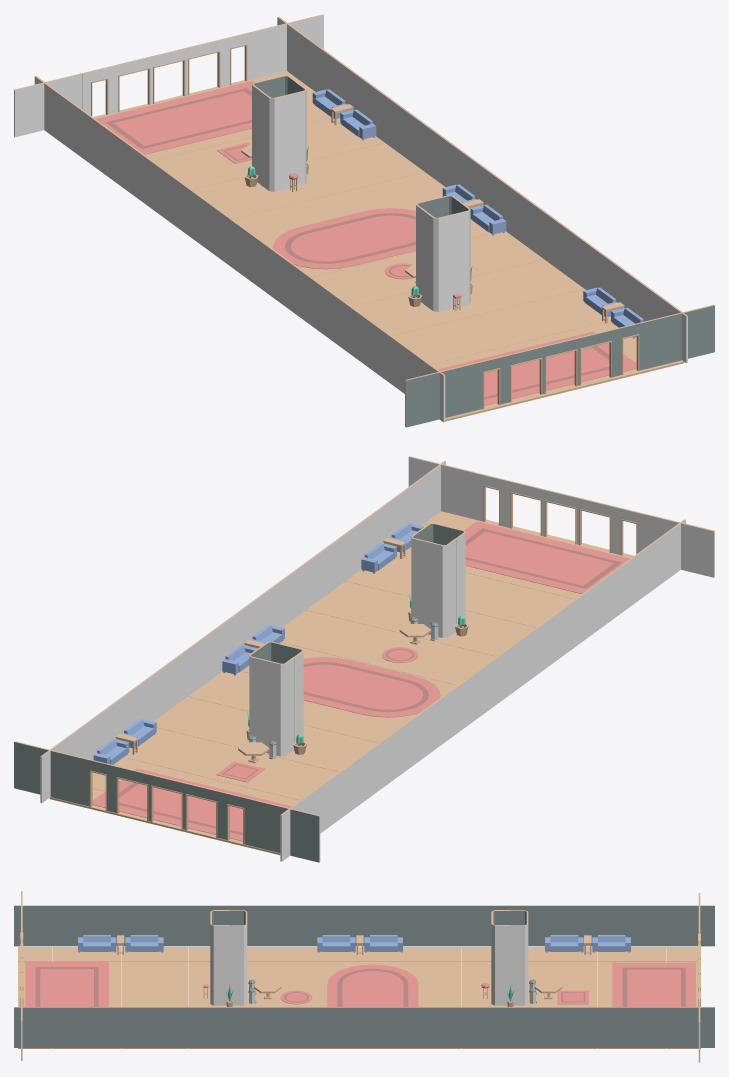
Rendered from place1.gltf.
3 renders of one model, top to bottom at view 1: azimuth 30°, elevation 25°; view 2: azimuth 150°, elevation 25°; view 3: azimuth 270°, elevation 25°, orthographic. The views are drawn at different scales.
Parts seen in each view (by area): view 1: wall(Clone).010, wall(Clone).009, rugRectangle(Clone).001, rugRounded(Clone).001, rugRectangle(Clone).002, wall(Clone).006, wall(Clone).008, wall(Clone).003, wall(Clone).001, wall(Clone).005, wallCorner(Clone).014, wallCorner(Clone).006 (+53 smaller); view 2: wall(Clone).010, wall(Clone).009, rugRectangle(Clone).002, rugRounded(Clone).001, rugRectangle(Clone).001, wall(Clone).008, wall(Clone).006, wall(Clone).001, wall(Clone).003, wallCorner(Clone).015, wallCorner(Clone).007, wall(Clone).002 (+48 smaller); view 3: wall(Clone).009, wall(Clone).010, rugRectangle(Clone).001, rugRectangle(Clone).002, rugRounded(Clone).001, wallCorner(Clone).008, wallCorner(Clone).016, wallCorner(Clone).005, wallCorner(Clone).013, wallCorner(Clone).004, wallCorner(Clone).009, wallCorner(Clone).012 (+57 smaller).
Boxes of the visible parts, x1,y1,x2,y2 form: wall(Clone).010: (34,76,445,422); wall(Clone).009: (277,17,687,362); rugRectangle(Clone).001: (96,80,254,154); rugRounded(Clone).001: (273,208,415,269); rugRectangle(Clone).002: (438,331,636,405); wall(Clone).006: (646,313,681,368); wall(Clone).008: (405,371,439,427); wall(Clone).003: (14,81,48,137); wall(Clone).001: (254,22,289,78); wall(Clone).005: (440,363,474,417); wallCorner(Clone).014: (424,211,453,265); wallCorner(Clone).006: (260,91,289,144); wall(Clone).010: (280,519,685,861); wall(Clone).009: (40,461,445,803); rugRectangle(Clone).002: (464,521,629,593); rugRounded(Clone).001: (303,657,440,717); rugRectangle(Clone).001: (92,768,291,841); wall(Clone).008: (680,522,714,577); wall(Clone).006: (441,464,476,519); wall(Clone).001: (47,749,82,804); wall(Clone).003: (286,807,320,862); wallCorner(Clone).015: (427,538,456,591); wallCorner(Clone).007: (265,657,294,710); wall(Clone).002: (252,799,286,852); wall(Clone).009: (14,1007,714,1047); wall(Clone).010: (14,905,714,946); rugRectangle(Clone).001: (612,962,695,1006); rugRectangle(Clone).002: (25,962,108,1006); rugRounded(Clone).001: (327,964,418,1006); wallCorner(Clone).008: (509,918,528,965); wallCorner(Clone).016: (228,918,247,965); wallCorner(Clone).005: (491,917,510,965); wallCorner(Clone).013: (210,917,229,965); wallCorner(Clone).004: (509,964,528,1005); wallCorner(Clone).009: (210,964,228,1005); wallCorner(Clone).012: (228,964,247,1005).
Size of the model in its own units: 9.01 by 2.61 by 20.37.
